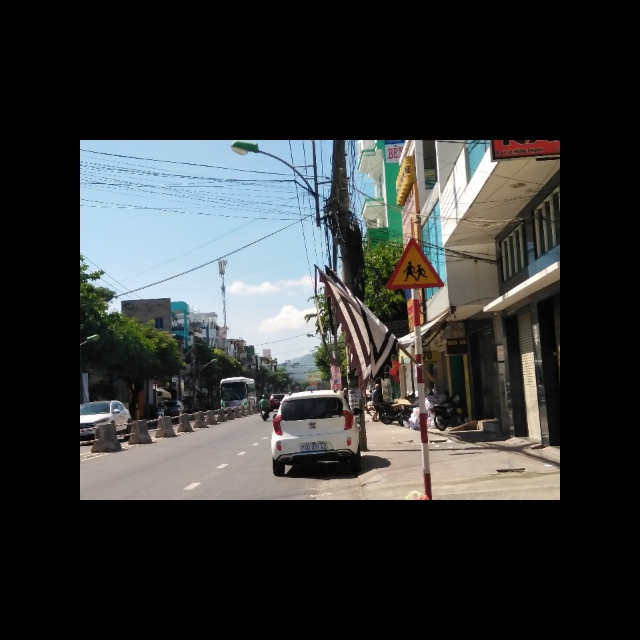Trẻ em ngang qua: (382, 239, 445, 289)
